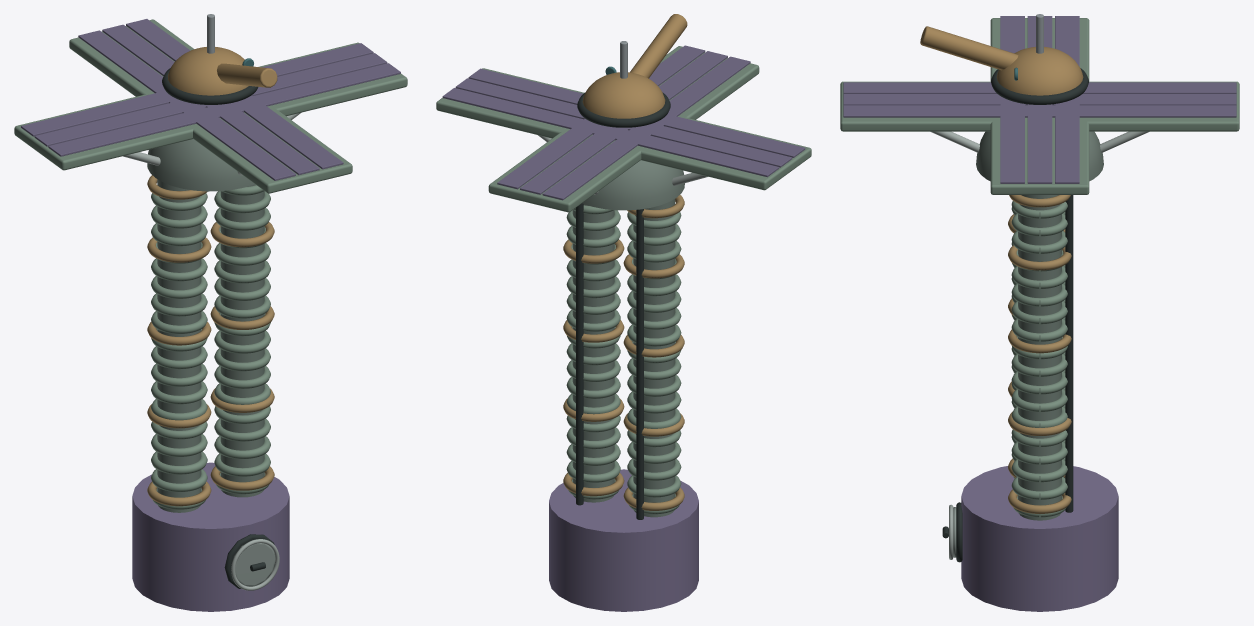
The picture shows the model from 3 angles, left to right: view 1: azimuth 30°, elevation 25°; view 2: azimuth 150°, elevation 25°; view 3: azimuth 270°, elevation 25°; orthographic projection. The views are drawn at different scales.
Visible parts, largest first — view 1: Foundation drum, Solar matrix pillar, Solar matrix pillar.001, Solar matrix crown, Radial collector panel.003, Radial collector panel.002, Defensive head cupola, Radial collector panel, Radial collector panel.001, Matrix base electronics lid, Defensive head barrel, Defensive cap azimuth bearing (+39 smaller); view 2: Foundation drum, Solar matrix pillar, Solar matrix pillar.001, Solar matrix crown, Defensive head cupola, Radial collector panel.001, Radial collector panel.002, Coil protected power riser, Coil protected power riser.001, Radial collector panel, Radial collector panel.003, Defensive head barrel (+9 smaller); view 3: Foundation drum, Solar matrix pillar.001, Defensive head cupola, Radial collector panel, Radial collector panel.001, Radial collector panel.003, Coil protected power riser.001, Defensive head barrel, Radial collector panel.002, Solar matrix crown, Defensive cap azimuth bearing, Coil structural clamp.008 (+16 smaller).
Boxes of the visible parts, x1=… form: Foundation drum: x1=132, y1=462, x2=289, y2=611; Solar matrix pillar: x1=157, y1=179, x2=201, y2=512; Solar matrix pillar.001: x1=220, y1=184, x2=264, y2=497; Solar matrix crown: x1=147, y1=139, x2=254, y2=191; Radial collector panel.003: x1=191, y1=106, x2=352, y2=193; Radial collector panel.002: x1=14, y1=94, x2=199, y2=170; Defensive head cupola: x1=167, y1=47, x2=248, y2=95; Radial collector panel: x1=259, y1=42, x2=407, y2=116; Radial collector panel.001: x1=69, y1=19, x2=193, y2=96; Matrix base electronics lid: x1=231, y1=543, x2=275, y2=586; Defensive head barrel: x1=217, y1=63, x2=277, y2=87; Defensive cap azimuth bearing: x1=162, y1=68, x2=258, y2=104; Foundation drum: x1=549, y1=469, x2=698, y2=611; Solar matrix pillar: x1=633, y1=199, x2=675, y2=517; Solar matrix pillar.001: x1=572, y1=204, x2=614, y2=502; Solar matrix crown: x1=582, y1=160, x2=684, y2=210; Defensive head cupola: x1=582, y1=72, x2=665, y2=118; Radial collector panel.001: x1=488, y1=128, x2=643, y2=212; Radial collector panel.002: x1=640, y1=117, x2=811, y2=190; Coil protected power riser: x1=636, y1=209, x2=643, y2=519; Coil protected power riser.001: x1=576, y1=203, x2=583, y2=505; Radial collector panel: x1=436, y1=68, x2=584, y2=138; Radial collector panel.003: x1=658, y1=46, x2=759, y2=119; Defensive head barrel: x1=630, y1=14, x2=687, y2=78; Foundation drum: x1=961, y1=466, x2=1118, y2=611; Solar matrix pillar.001: x1=1018, y1=195, x2=1061, y2=520; Defensive head cupola: x1=996, y1=46, x2=1083, y2=95; Radial collector panel: x1=990, y1=117, x2=1089, y2=194; Radial collector panel.001: x1=1079, y1=81, x2=1239, y2=131; Radial collector panel.003: x1=840, y1=81, x2=999, y2=131; Coil protected power riser.001: x1=1065, y1=195, x2=1073, y2=512; Defensive head barrel: x1=920, y1=26, x2=1018, y2=70; Radial collector panel.002: x1=990, y1=18, x2=1089, y2=81; Solar matrix crown: x1=976, y1=131, x2=1103, y2=181; Defensive cap azimuth bearing: x1=991, y1=68, x2=1088, y2=104; Coil structural clamp.008: x1=1008, y1=245, x2=1071, y2=270.
Size of the model in its own units: 2.18 by 3.4 by 2.18.
